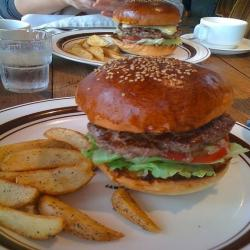burger: (74, 52, 238, 201), (111, 1, 185, 62)
fries: (2, 132, 95, 241), (72, 35, 120, 60)
